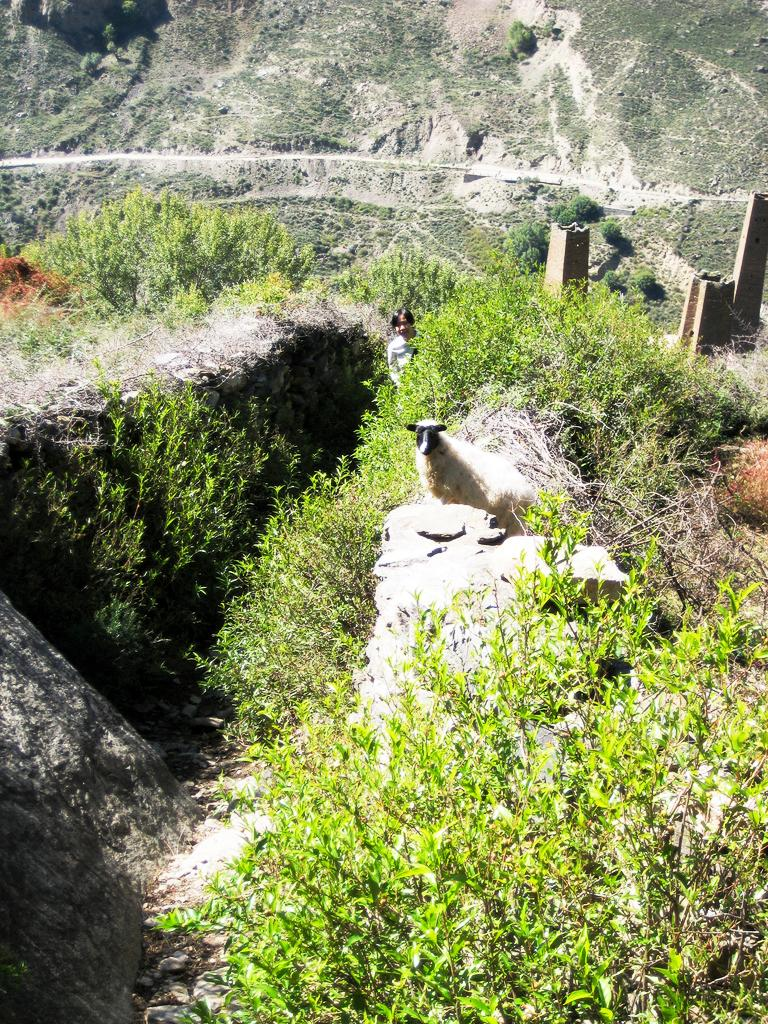Sheep: (404, 417, 531, 533)
